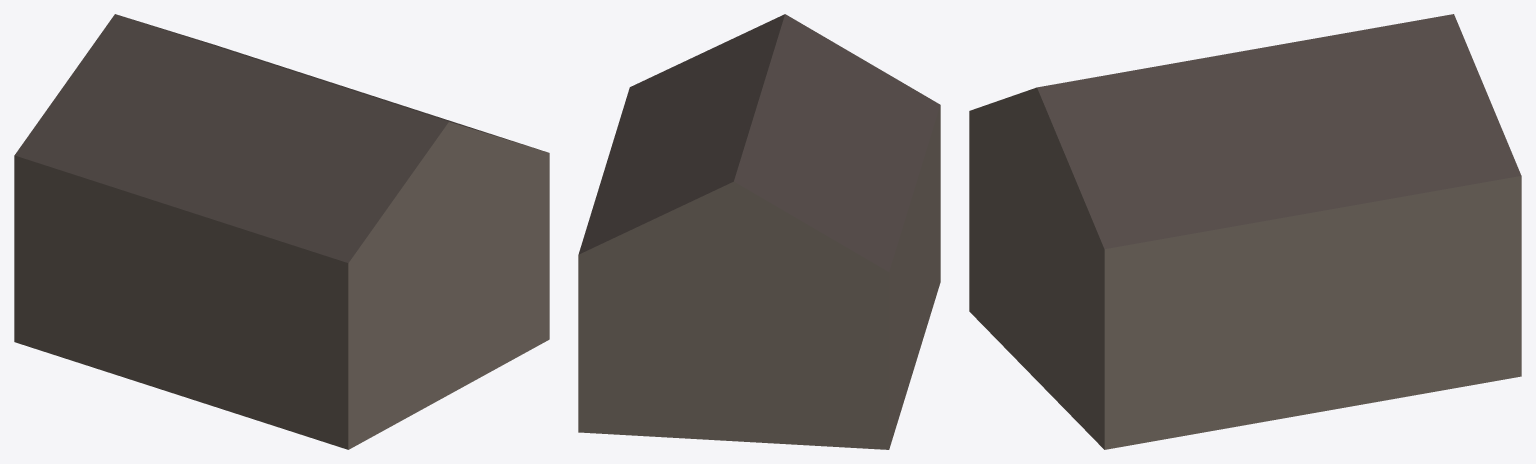
3 views of the same model, side by side, from view 1: azimuth 30°, elevation 25°; view 2: azimuth 150°, elevation 25°; view 3: azimuth 270°, elevation 25° (orthographic). The views are drawn at different scales.
Parts seen in each view (by area): view 1: HP-w1200774749; view 2: HP-w1200774749; view 3: HP-w1200774749.
Boxes of the visible parts, x1,y1,x2,y2 form: HP-w1200774749: (14, 14, 549, 449); HP-w1200774749: (578, 14, 940, 449); HP-w1200774749: (969, 14, 1521, 449).
Bounding box in the file's own units: 13.58 × 8.77 × 14.96.
